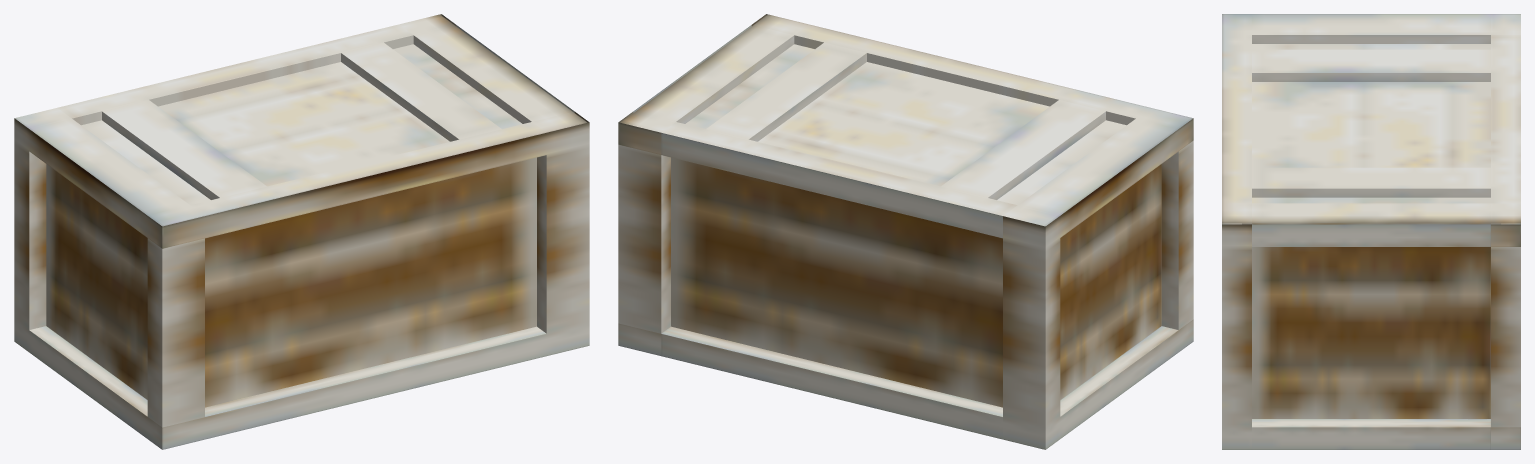
The model's file is Poly_Crate_01_Snow.obj.
3 views of the same model, side by side, from view 1: azimuth 30°, elevation 25°; view 2: azimuth 150°, elevation 25°; view 3: azimuth 270°, elevation 25° (orthographic).
Parts seen in each view (by area): view 1: Cube.001; view 2: Cube.001; view 3: Cube.001.
Boxes of the visible parts, x1=… form: Cube.001: x1=14, y1=14, x2=589, y2=449; Cube.001: x1=618, y1=14, x2=1193, y2=449; Cube.001: x1=1222, y1=14, x2=1520, y2=449.
Bounding box in the file's own units: 1 × 0.5 × 0.6.
Materials: 1 (1 with a texture image).
